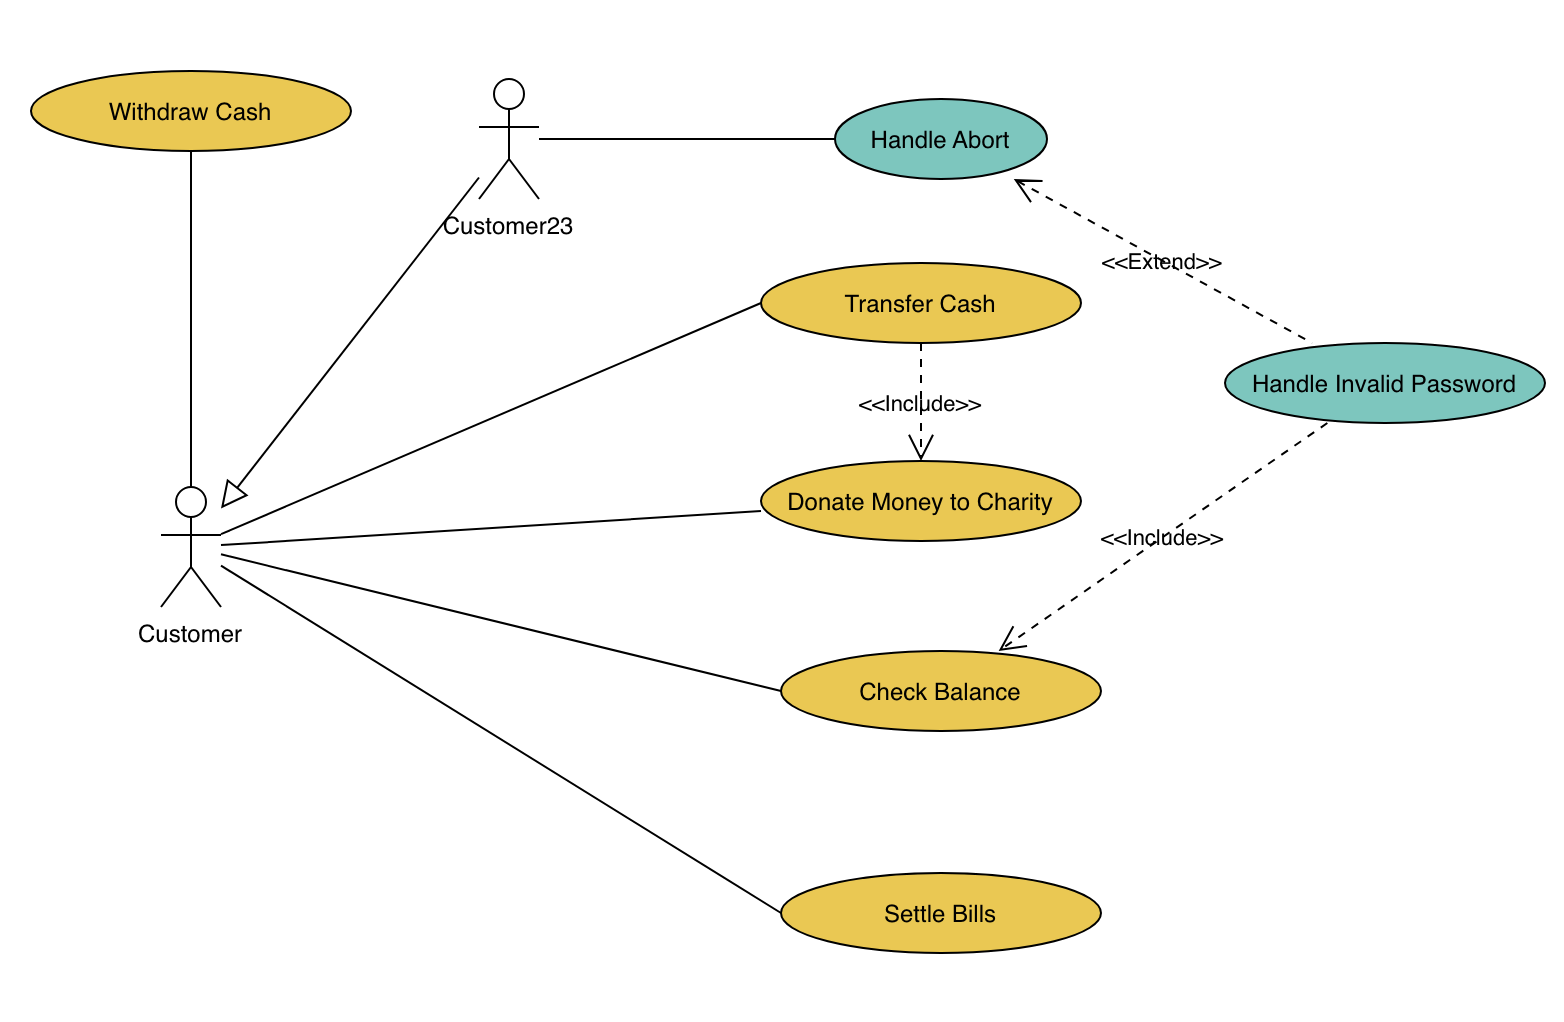actor: (465, 75, 549, 201), (160, 479, 221, 614)
association: (222, 566, 781, 912), (220, 300, 762, 536), (224, 550, 783, 693), (996, 417, 1334, 652), (1011, 176, 1318, 344), (219, 506, 765, 550), (178, 152, 203, 485), (540, 125, 836, 151), (905, 342, 938, 459)
generalization: (221, 175, 483, 510)
text: (777, 486, 1060, 519), (1248, 367, 1520, 399), (107, 91, 277, 130), (853, 674, 1030, 707), (837, 289, 1005, 321), (867, 124, 1022, 159), (1094, 520, 1235, 555), (878, 897, 1000, 932), (854, 390, 991, 417), (438, 214, 578, 240), (131, 623, 252, 651), (1088, 254, 1235, 277)
use_case: (776, 647, 1101, 735), (1222, 339, 1548, 425), (29, 67, 352, 154), (760, 260, 1083, 347), (761, 459, 1084, 545), (778, 870, 1104, 955), (832, 96, 1048, 182)
